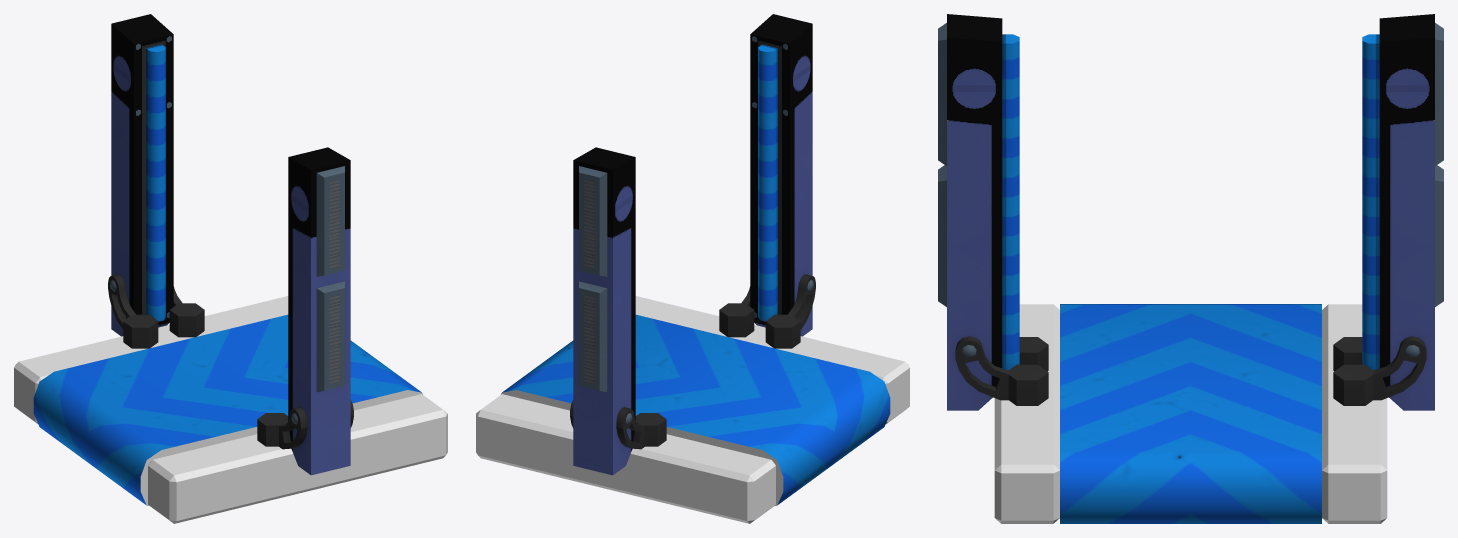
File: obj_factory_upgrader_01.fbx
3 views of the same model, side by side, from view 1: azimuth 30°, elevation 25°; view 2: azimuth 150°, elevation 25°; view 3: azimuth 270°, elevation 25° (orthographic). The views are drawn at different scales.
Parts seen in each view (by area): view 1: factory_belt_01_lp, obj_upgraderpart_base_lp; view 2: factory_belt_01_lp, obj_upgraderpart_base_lp; view 3: factory_belt_01_lp, obj_upgraderpart_base_lp.
Part boxes in pixels (box(x1,y1,x2,y2)): factory_belt_01_lp: box(14, 296, 447, 523); obj_upgraderpart_base_lp: box(108, 14, 353, 475); factory_belt_01_lp: box(476, 296, 909, 523); obj_upgraderpart_base_lp: box(570, 14, 815, 475); factory_belt_01_lp: box(994, 304, 1387, 523); obj_upgraderpart_base_lp: box(938, 14, 1443, 410).
Bounding box in the file's own units: 6.2 × 7.15 × 7.73.
